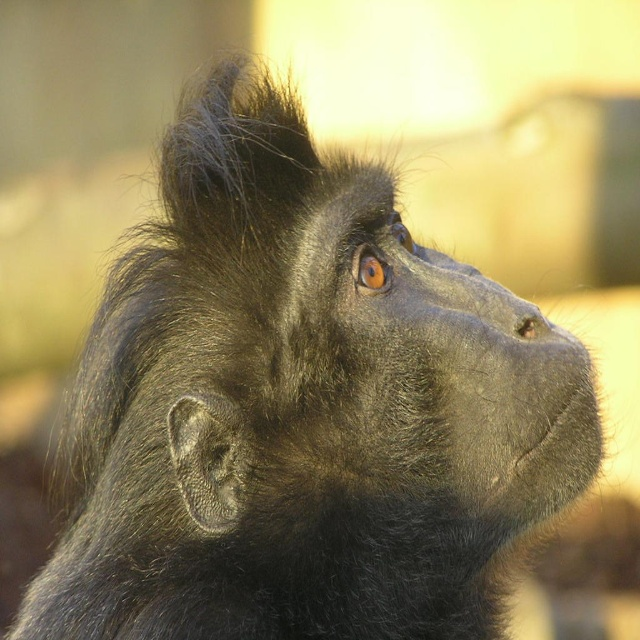Monkey: (3, 49, 614, 639)
